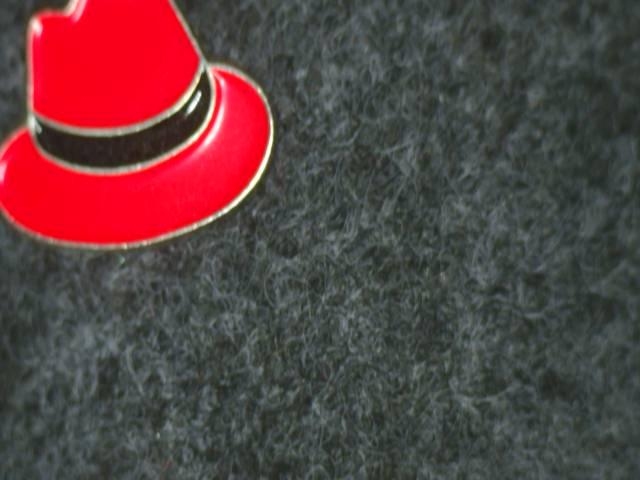Red-Hat: (0, 0, 296, 284)
